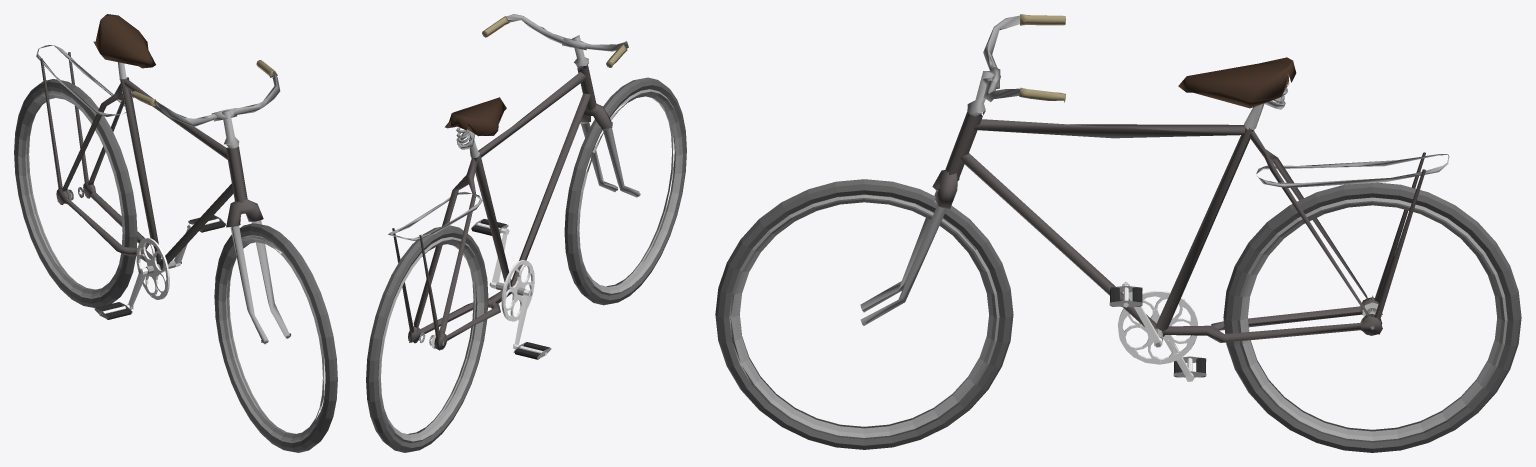
Rendered from altrad.glb.
3 views of the same model, side by side, from view 1: azimuth 30°, elevation 25°; view 2: azimuth 150°, elevation 25°; view 3: azimuth 270°, elevation 25° (orthographic). The views are drawn at different scales.
Parts seen in each view (by area): view 1: Modell, Vorderrad, Hinterrad; view 2: Modell, Hinterrad, Vorderrad; view 3: Modell, Vorderrad, Hinterrad.
Boxes of the visible parts, x1,y1,x2,y2 form: Modell: (36, 14, 290, 344); Vorderrad: (214, 223, 337, 452); Hinterrad: (14, 79, 137, 307); Modell: (388, 14, 639, 359); Hinterrad: (366, 225, 488, 452); Vorderrad: (564, 77, 686, 305); Modell: (860, 14, 1449, 381); Vorderrad: (715, 179, 1013, 449); Hinterrad: (1223, 182, 1521, 452).
Bounding box in the file's own units: 0.4275 × 0.9799 × 1.78.
